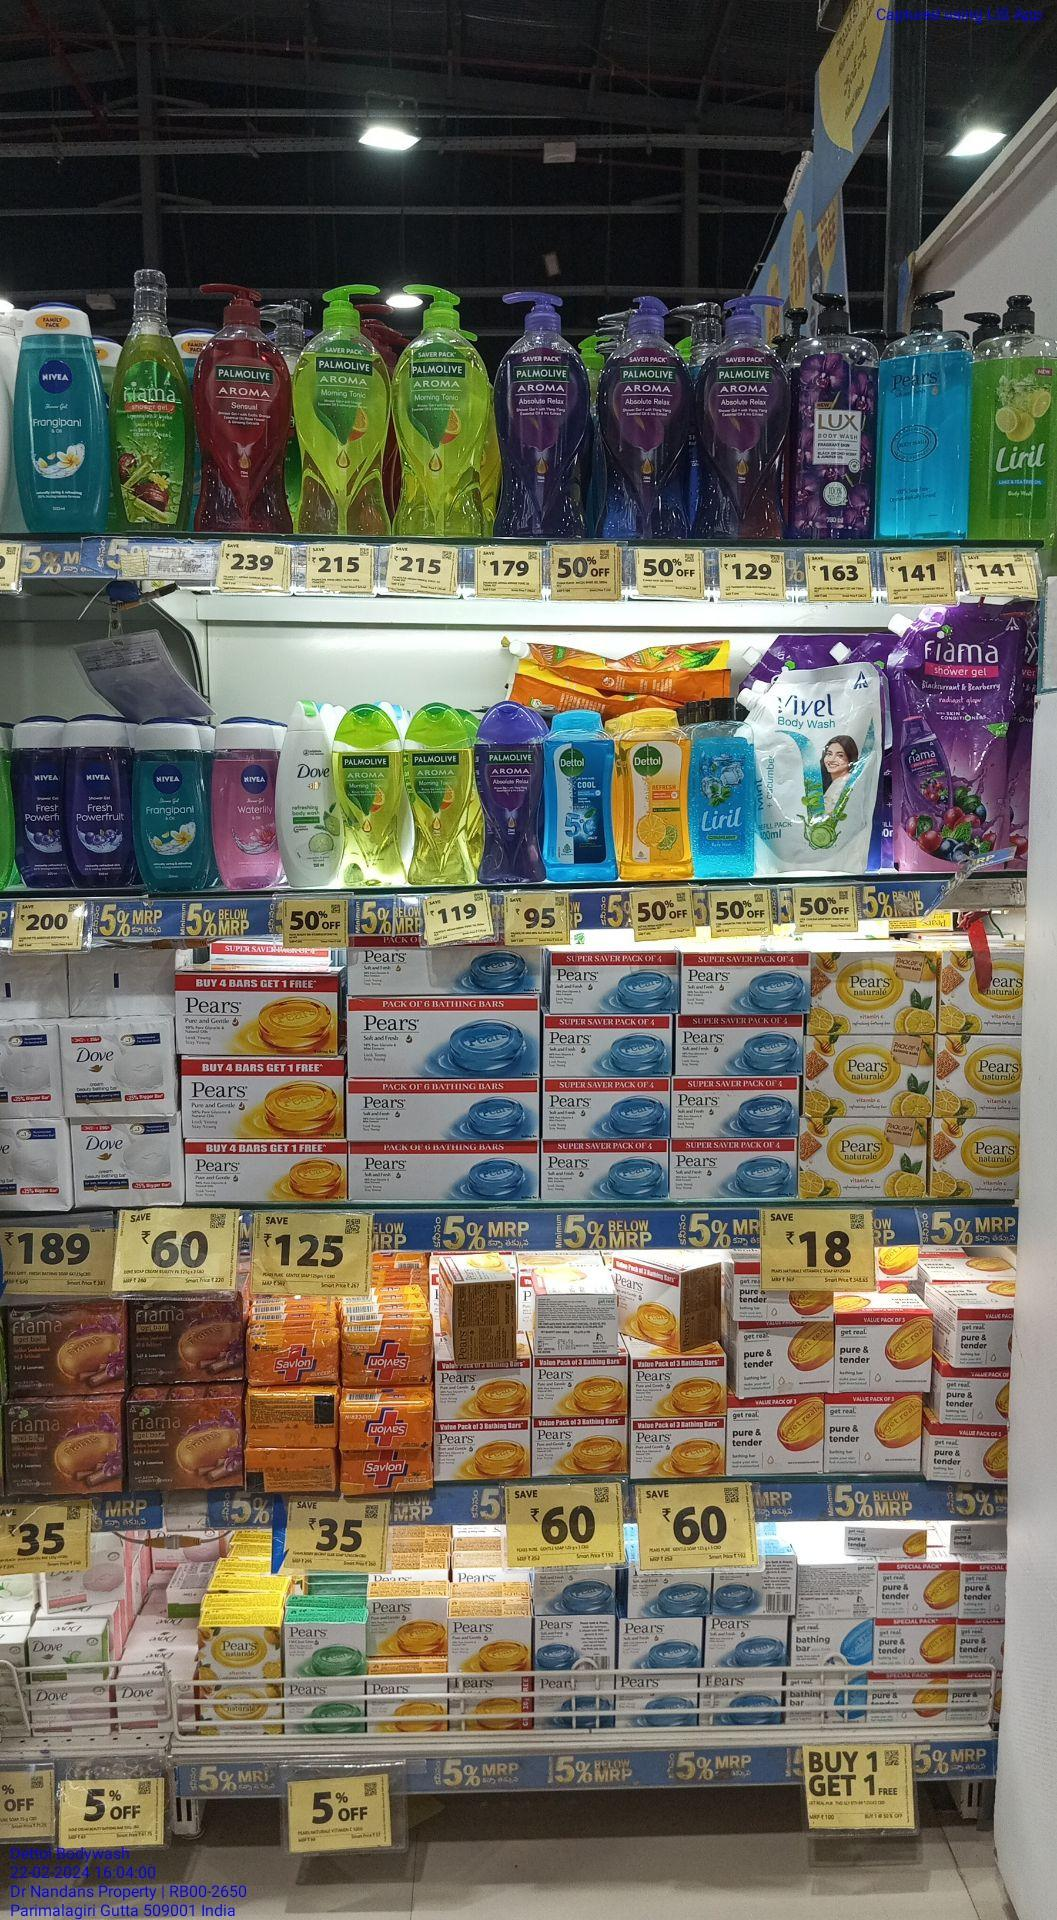Dettol_Bodywash_Cool: (540, 713, 616, 881)
Dettol_Bodywash_Refresh: (617, 708, 690, 879)
Dove_Refreshing_Body_Wash_250ML: (277, 698, 338, 885)
Liril_Cooling_Mint_Body_Wash_250ML: (693, 693, 756, 879)
Nivea_Shower_Gel_Frangipani_and_Oil_250ML: (17, 302, 104, 530), (134, 721, 204, 890)
Nivea_Shower_Gel_Fresh_Powerfruit_250ML: (65, 717, 129, 886), (17, 719, 69, 884)
Nivea_Shower_Gel_Waterlily_and_Oil_250ML: (211, 719, 275, 889)
Palmolive_Aroma_Morning_Tonic_Shower_Gel_250ML: (335, 704, 406, 885), (404, 700, 473, 884)
Palmolive_Aroma_Relax_250ML: (476, 707, 545, 884)
